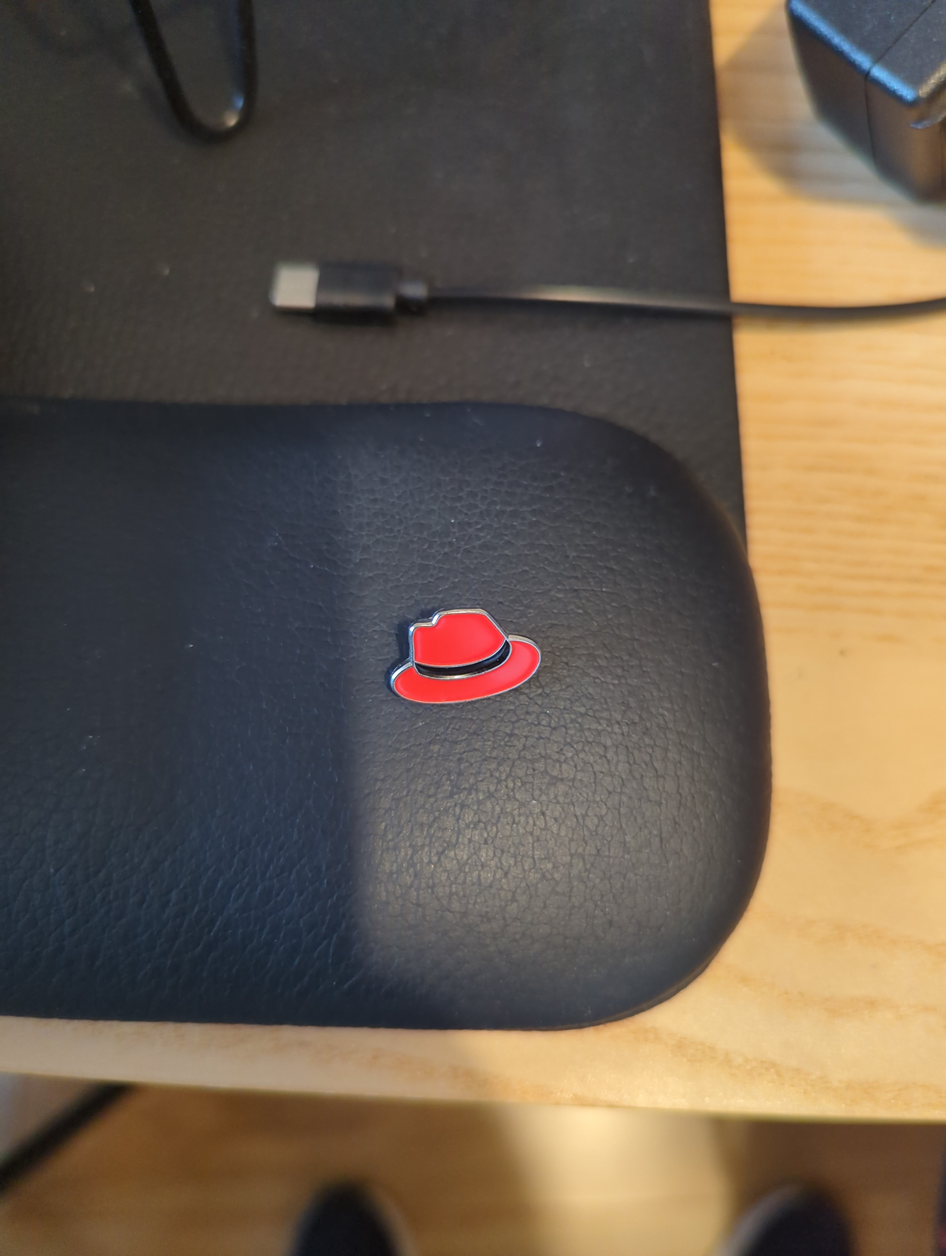Red-Hat: (347, 548, 595, 780)
